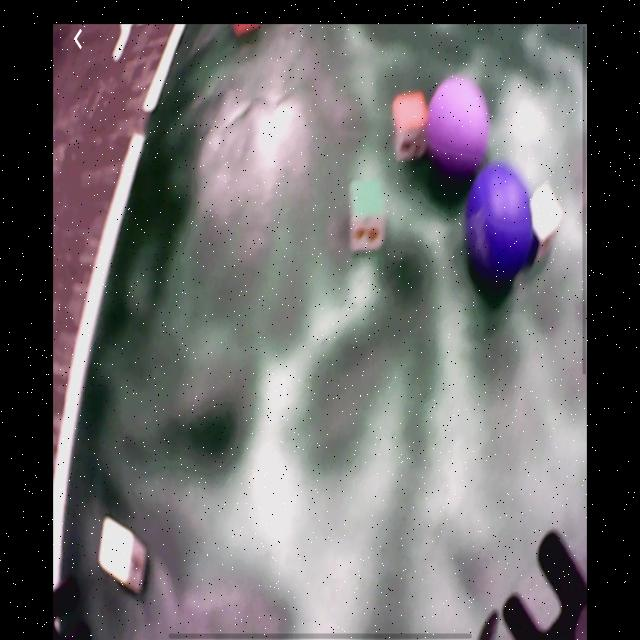ball: (465, 166, 534, 278), (430, 76, 491, 171)
